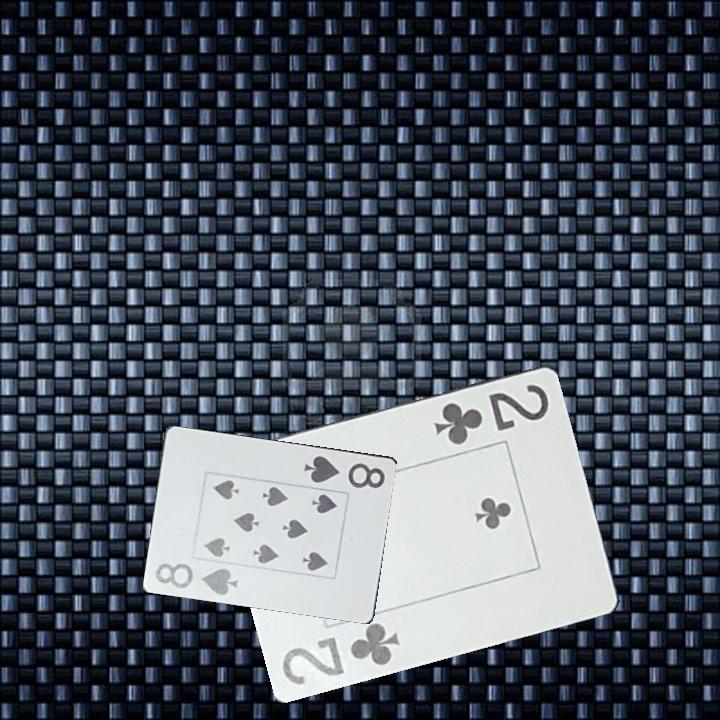2c: (279, 618, 404, 687), (430, 380, 552, 448)
8s: (152, 559, 241, 598), (301, 452, 388, 491)
